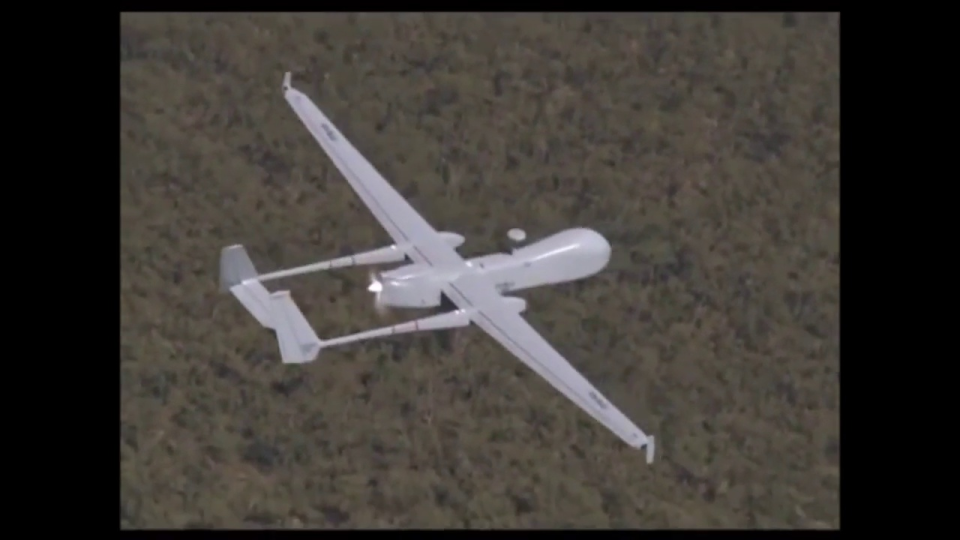military drone: (217, 71, 655, 463)
